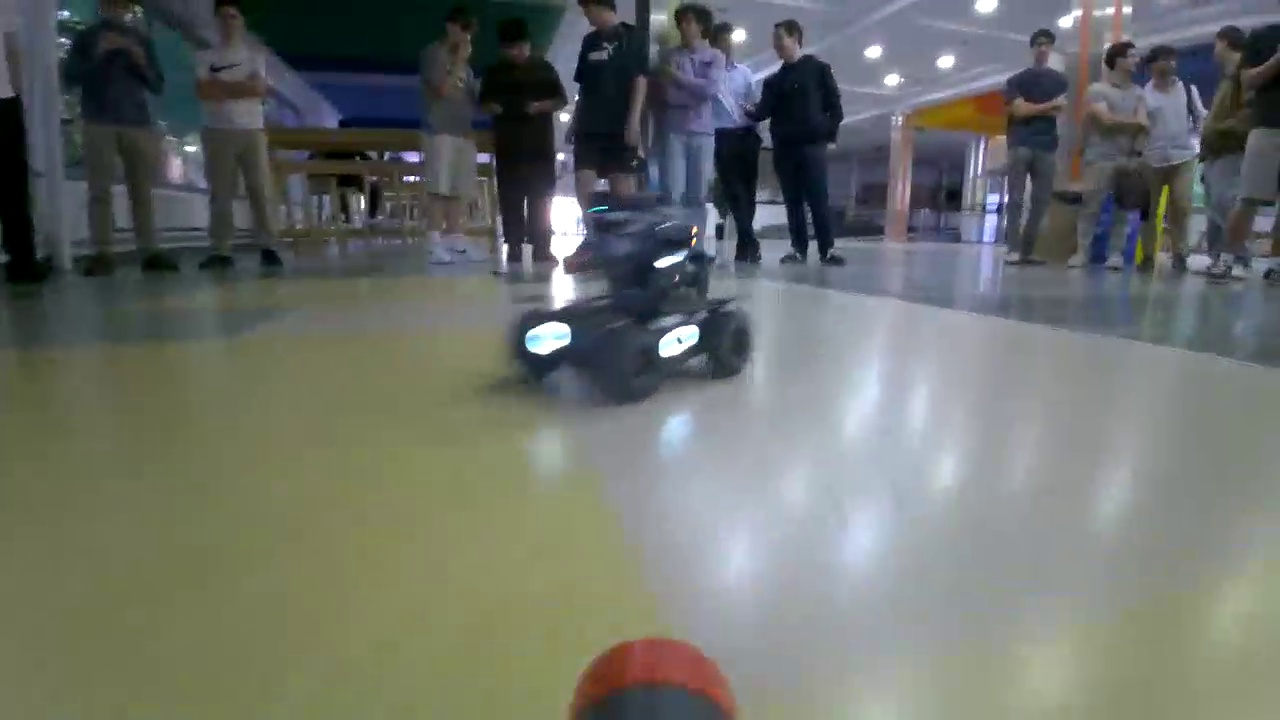robot: (505, 194, 760, 399)
